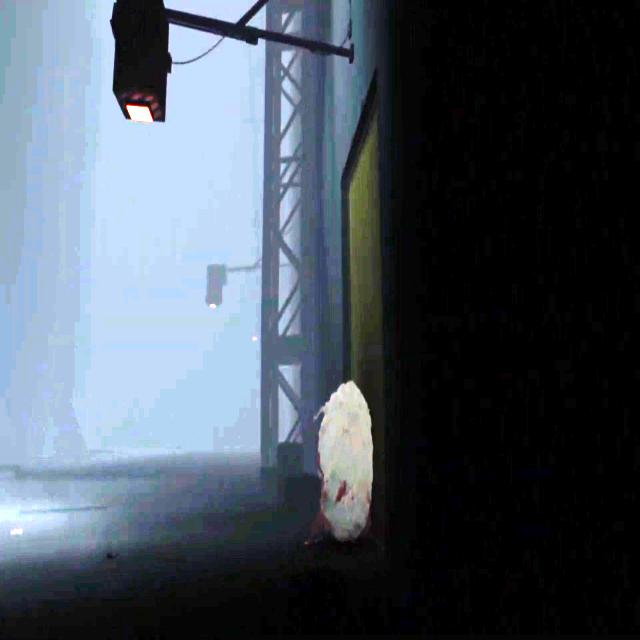blob: (311, 380, 375, 540)
interactible: (111, 0, 170, 124), (205, 261, 228, 308)
structure: (261, 1, 323, 480)
